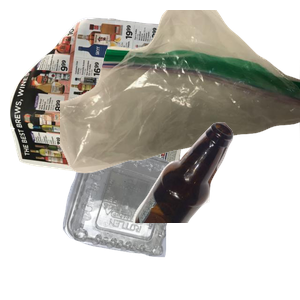glass: (130, 120, 300, 300)
paper: (10, 15, 196, 195)
plastic: (60, 136, 237, 300)
trash: (60, 10, 300, 176)
